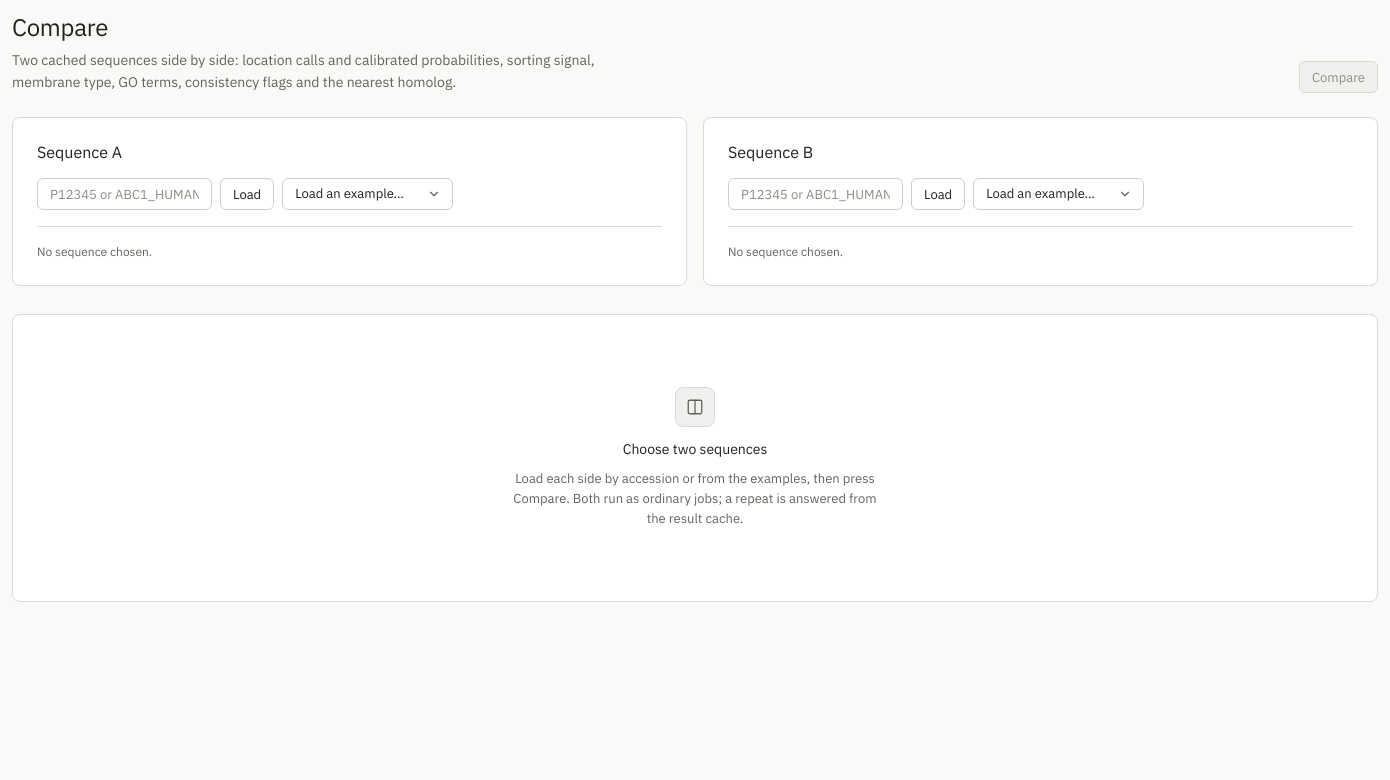
Test: Compare page › enables Compare only once both sides have a sequence
This screenshot has width=1390, height=780.
Check: the button "Compare" is disabled, box [1299, 61, 1378, 93]
Select "ONE_HUMAN (P1)" in the dropdown named "Load an example" below "Sequence A" at (368, 194), box [282, 178, 453, 210]
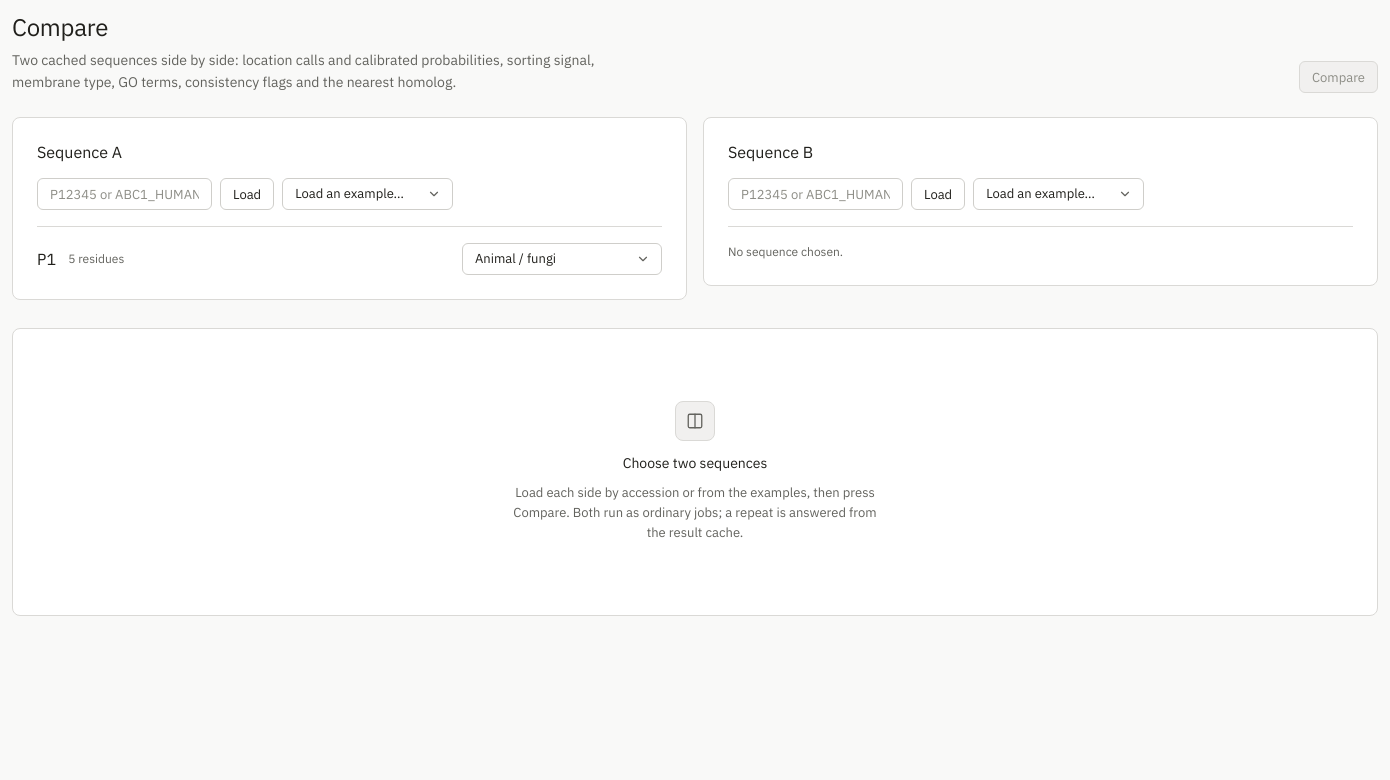
Check: the button "Compare" is disabled, box [1299, 61, 1378, 93]
Select "TWO_ARATH (P2)" in the dropdown named "Load an example" below "Sequence B" at (1059, 194), box [973, 178, 1144, 210]
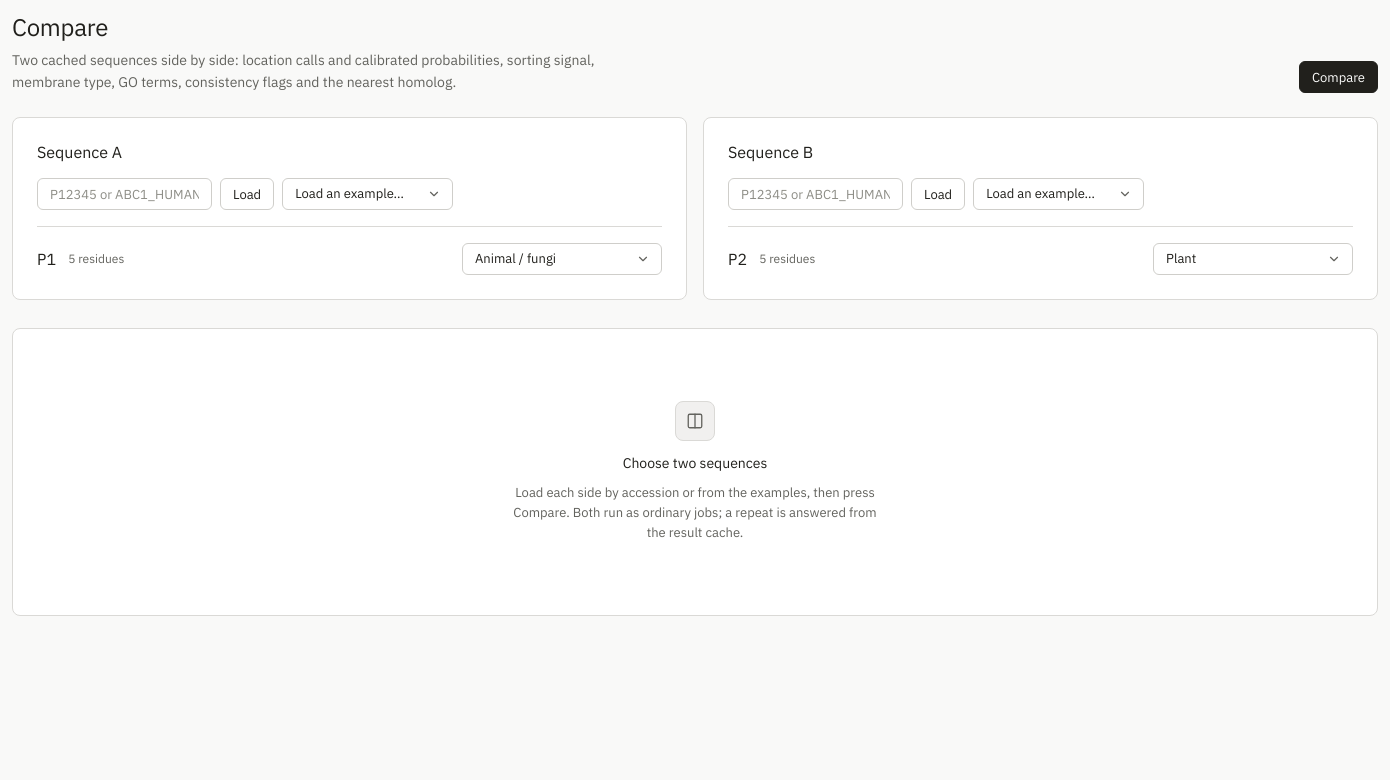
Check: the text "P1" is shown, box [37, 247, 56, 272]
Check: the button "Compare" is enabled, box [1299, 61, 1378, 93]
Check: the text "5 residues" is shown 2 times, box [68, 250, 124, 268]; [759, 250, 815, 268]
